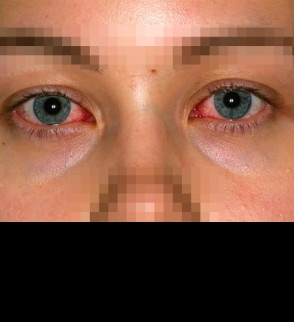SJS-TEN: (189, 135, 294, 223), (0, 132, 98, 223), (43, 0, 266, 34)
